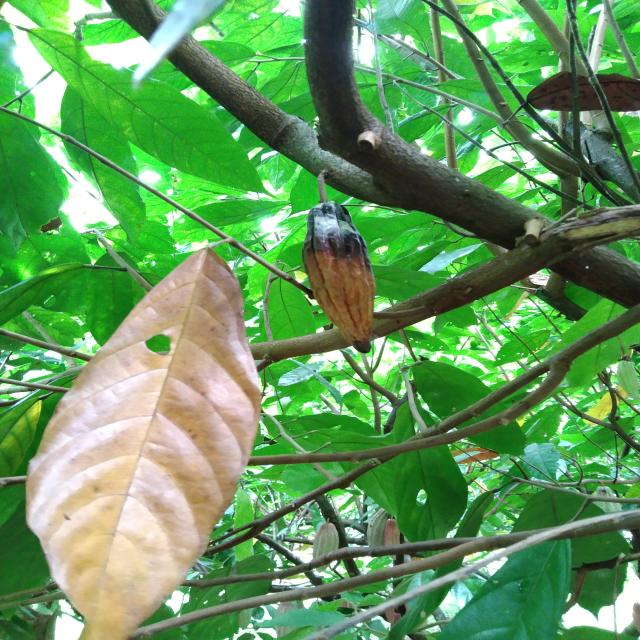Monilia: (293, 202, 372, 352)
